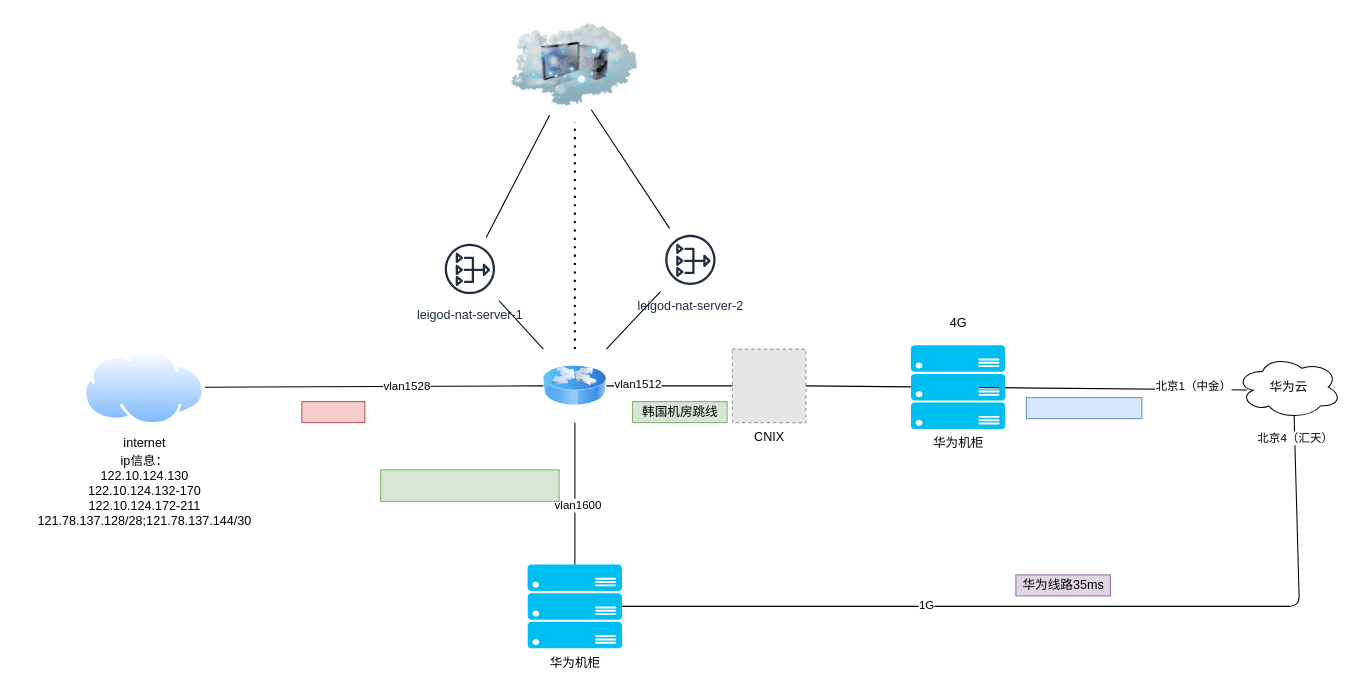
Image size: 1360x688. Some labels were removed from this diagram. Grey dashed boxes stand in for pictures. Each missing label, with the centre of its shape:
"CNIX提供机房跳线 线路编号KGXC202011-02-01" belongs at point (469, 485).
"KOR_韩国_首尔_ Gasan" belongs at point (574, 385).
"华为中韩线25ms" belongs at point (1083, 408).
"廊桥公网" belongs at point (333, 412).
"韩国互联云" belongs at point (574, 65).
